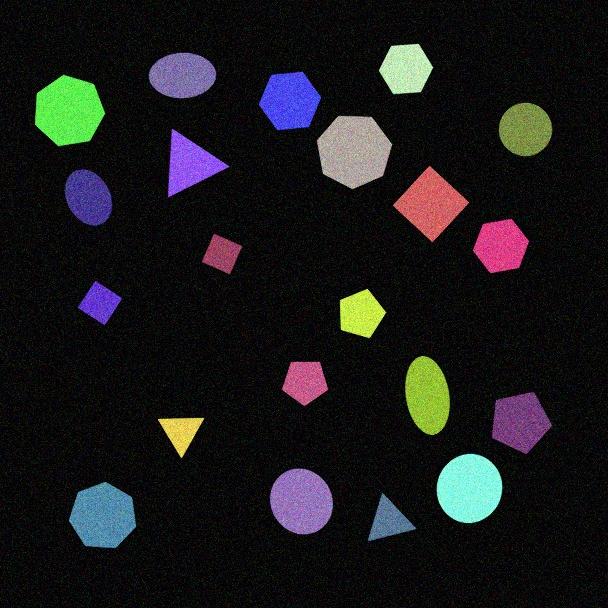Circulo: (436, 453, 503, 524), (269, 468, 334, 535), (498, 102, 553, 157)
Elipse: (404, 355, 451, 436), (148, 52, 217, 99), (64, 169, 113, 226)
Heptagono: (316, 115, 393, 190), (34, 74, 106, 147), (68, 481, 137, 549)
Hexagono: (258, 71, 322, 131), (472, 218, 530, 274), (378, 43, 434, 95)
Pentagono: (491, 391, 553, 455), (339, 288, 387, 339), (281, 361, 329, 407)
Quadrado: (392, 165, 470, 243), (77, 280, 123, 326), (201, 233, 243, 275)
Triangulo: (167, 128, 230, 198), (367, 493, 417, 542), (157, 417, 205, 459)
